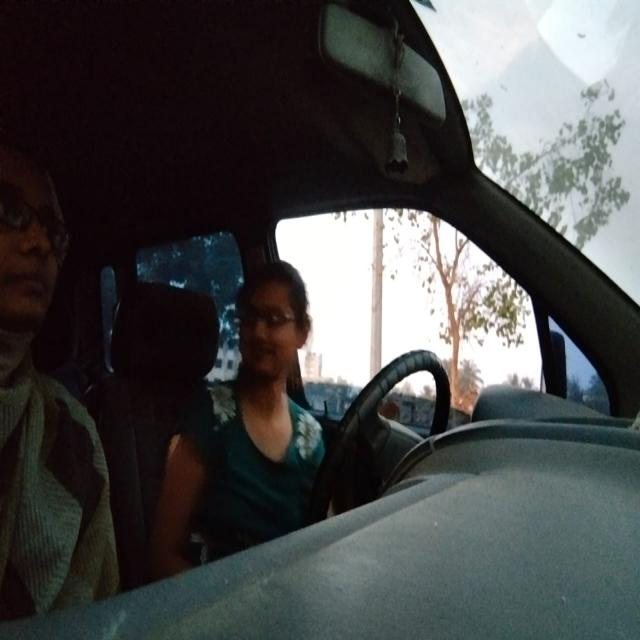LeftRight: (235, 255, 314, 387)
person: (2, 137, 68, 363)
